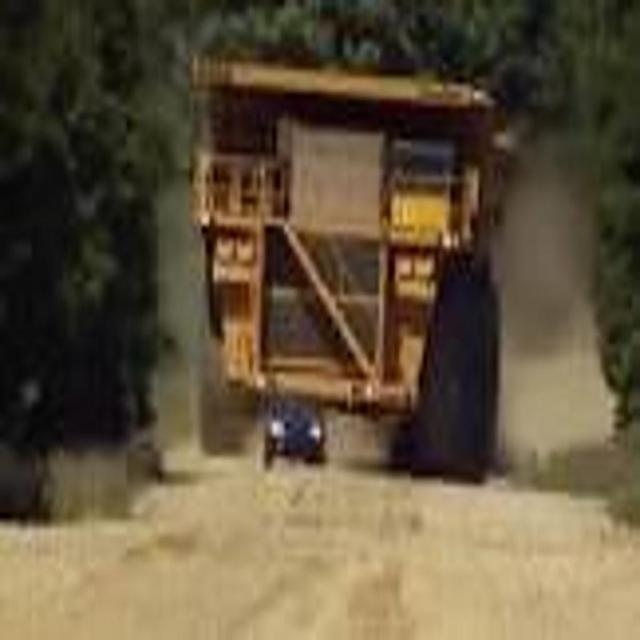dump_truck: (183, 39, 518, 492)
